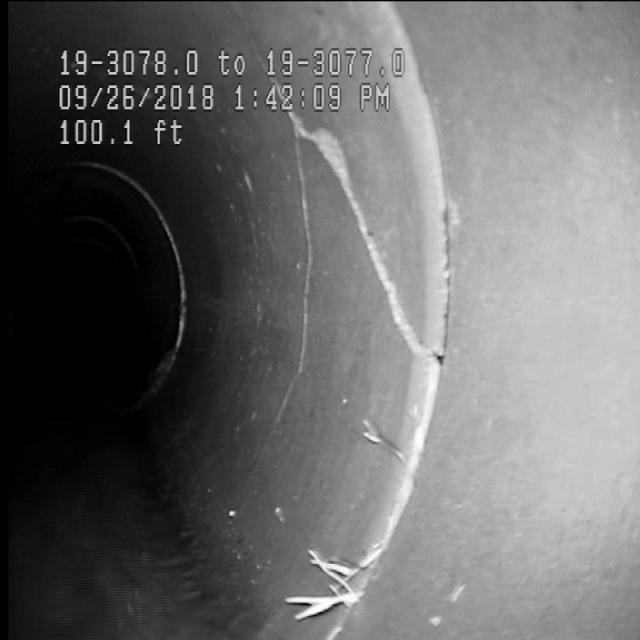Crack: (316, 124, 422, 359)
